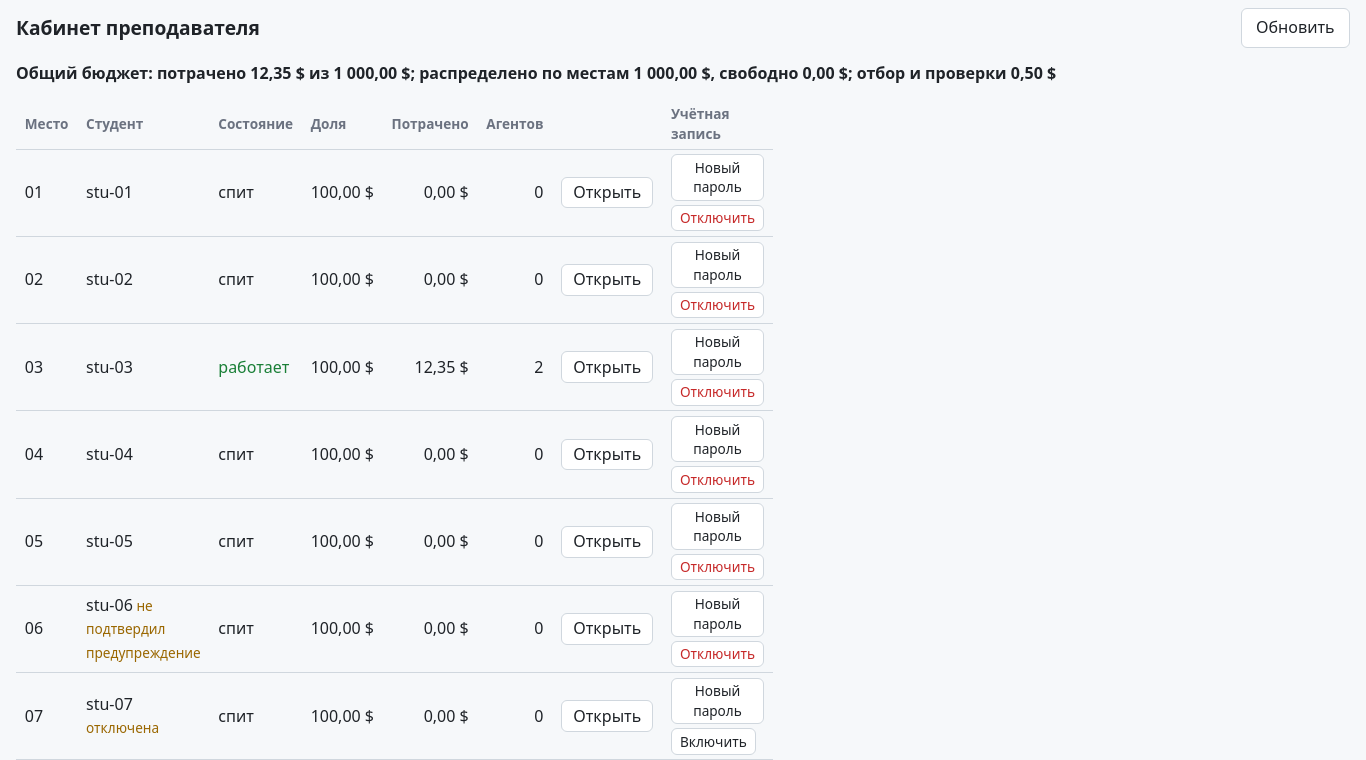
Test: row_buttons_follow_account_state_enable_unlock_without_asking
The width and height of the screenshot is (1366, 760).
Expected: the button with aria-label "Новый пароль stu-03" reads "Новый пароль", [671,329,764,375]
Expected: the button with aria-label "Отключить stu-03" reads "Отключить", [671,379,764,406]
Click the button with aria-label "Включить stu-07".
click(713, 741)  # box [671,728,756,755]
(page scrolled)
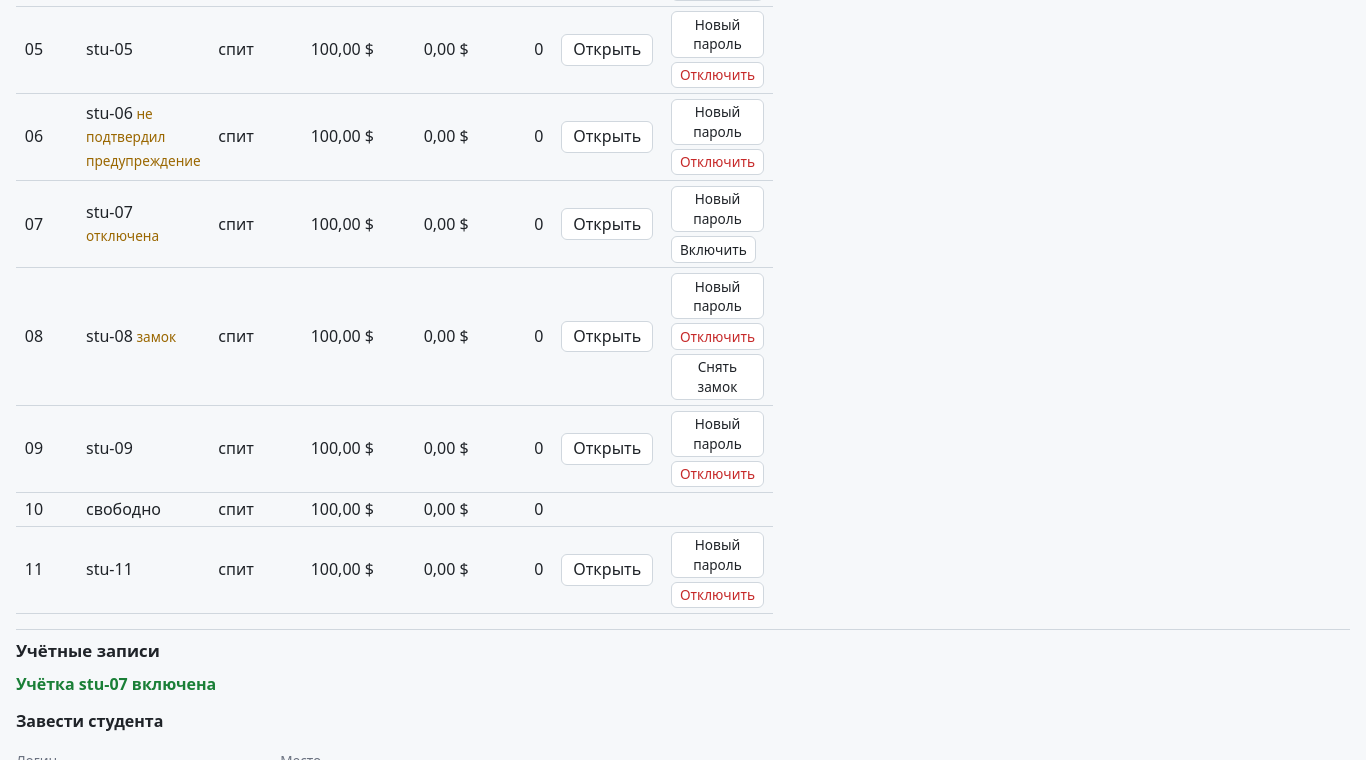
Expected: the text "Учётка stu-07 включена" is shown, [16,673,216,695]
Click the button with aria-label "Снять замок stu-08".
click(718, 377)  # box [671,354,764,400]
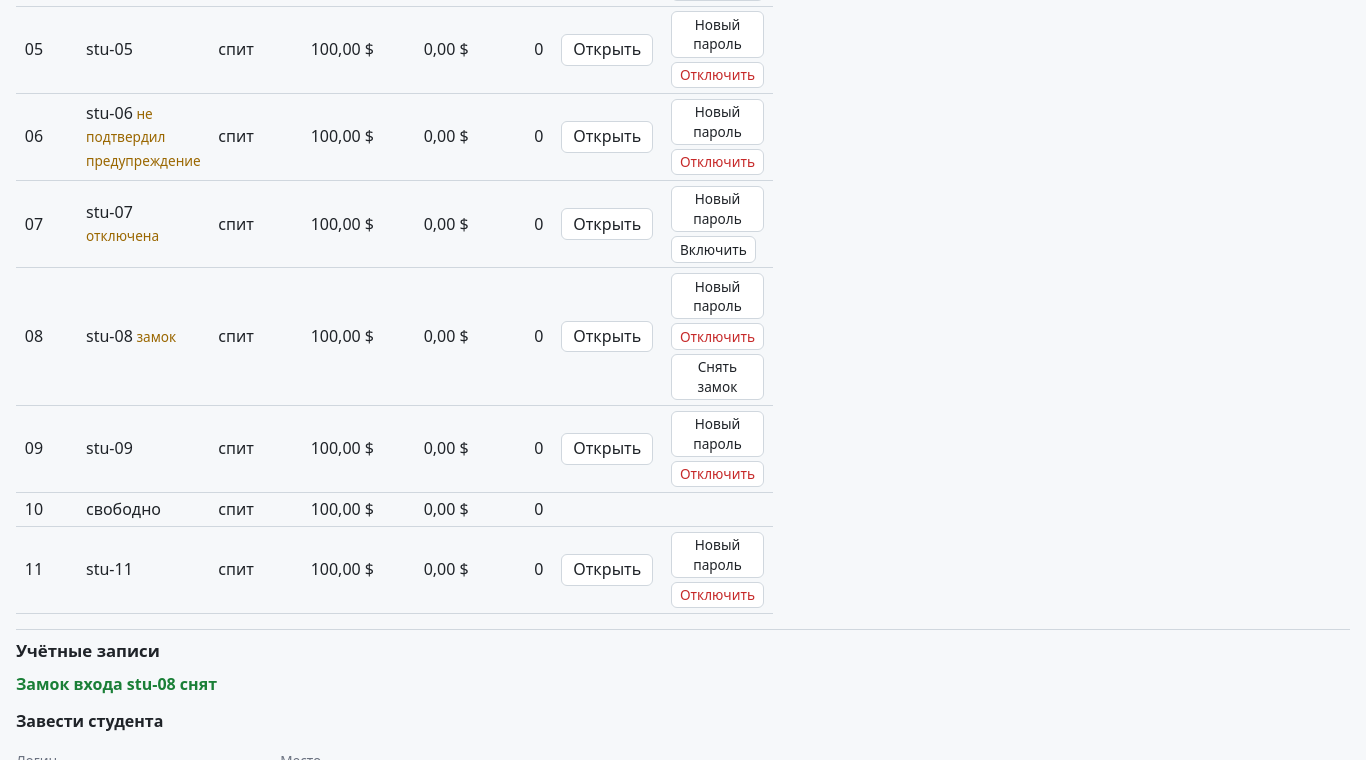
Expected: the text "Замок входа stu-08 снят" is shown, [16,673,217,695]
